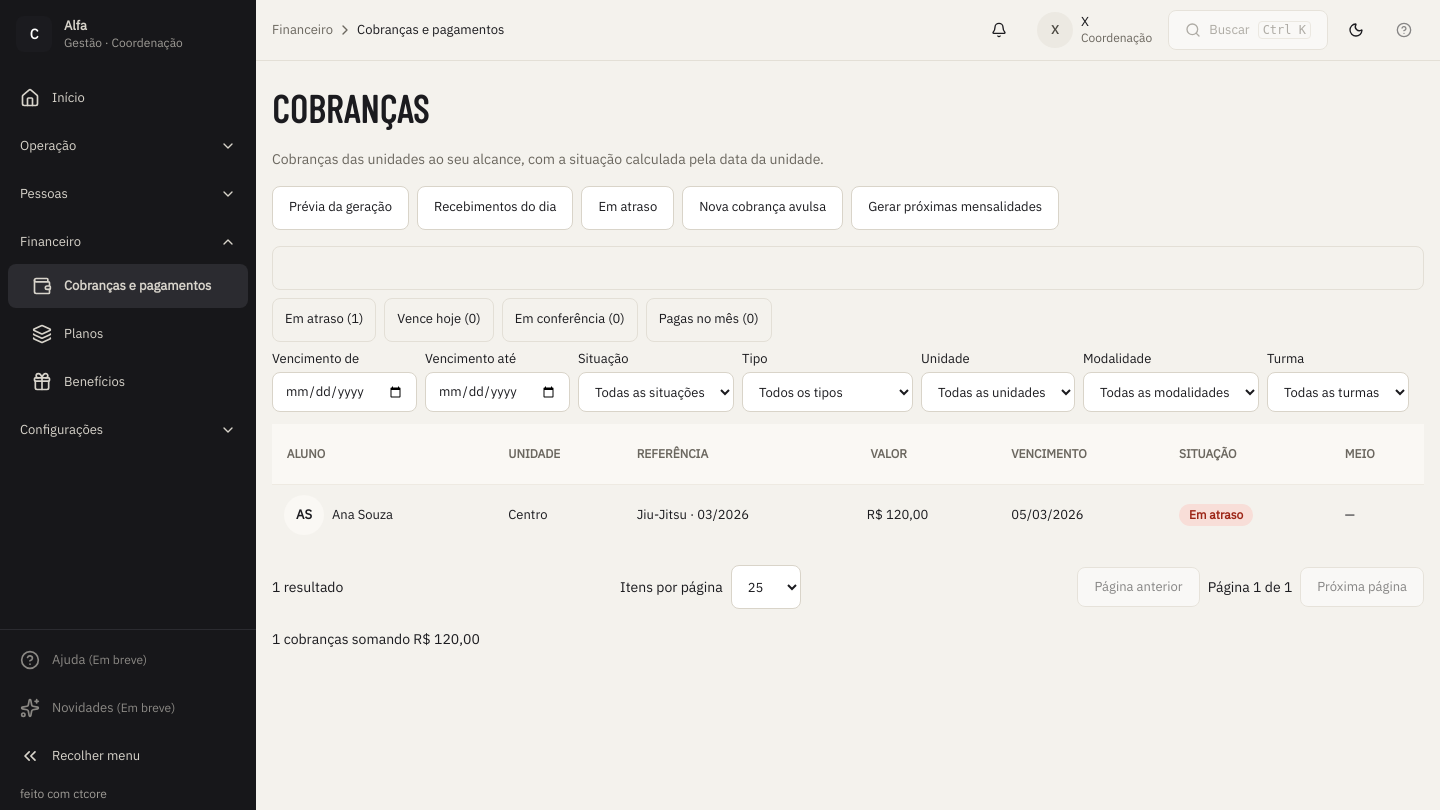
Test case: ChargePanel (RF-COB-02) › CA20: 403 e 404 do servidor
Click the button with aria-label "Abrir cobrança de Ana Souza" at (693, 515), box top-left (637, 493), bottom-right (749, 537)
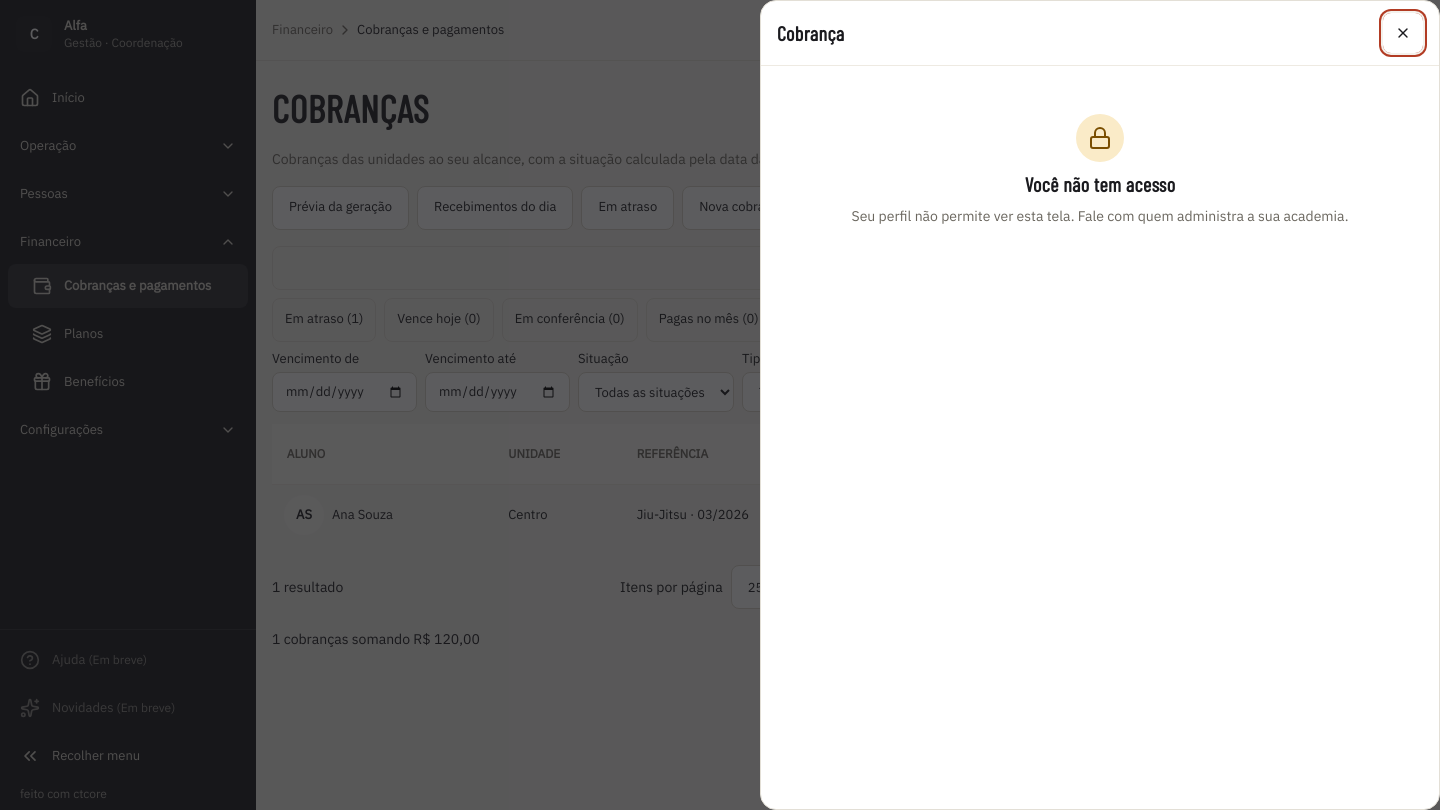
Now the heading "Você não tem acesso" is shown, box top-left (1025, 170), bottom-right (1175, 198)
